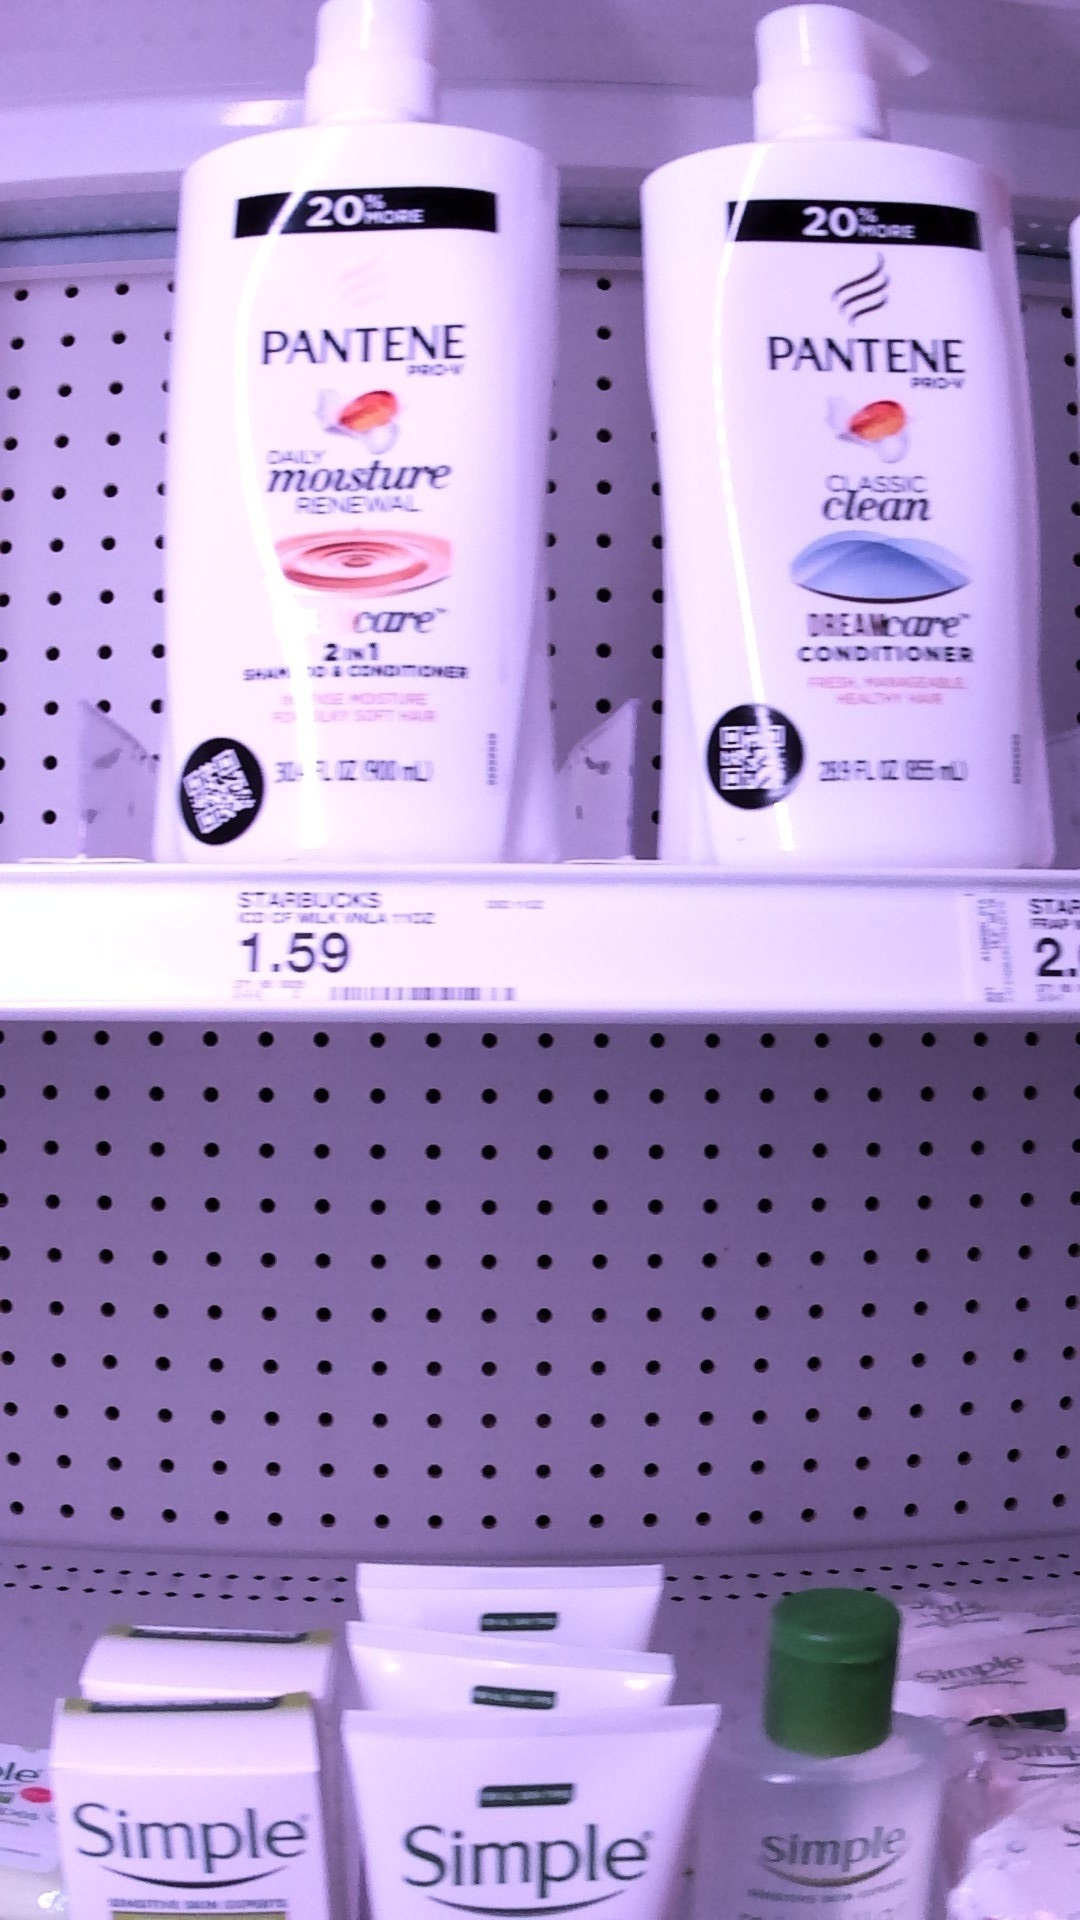ptag: (222, 876, 555, 1017)
